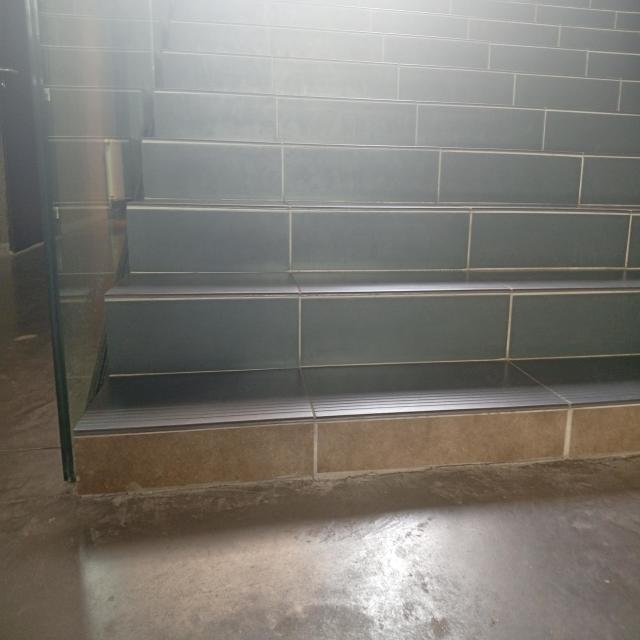Stairs: (42, 83, 638, 520)
